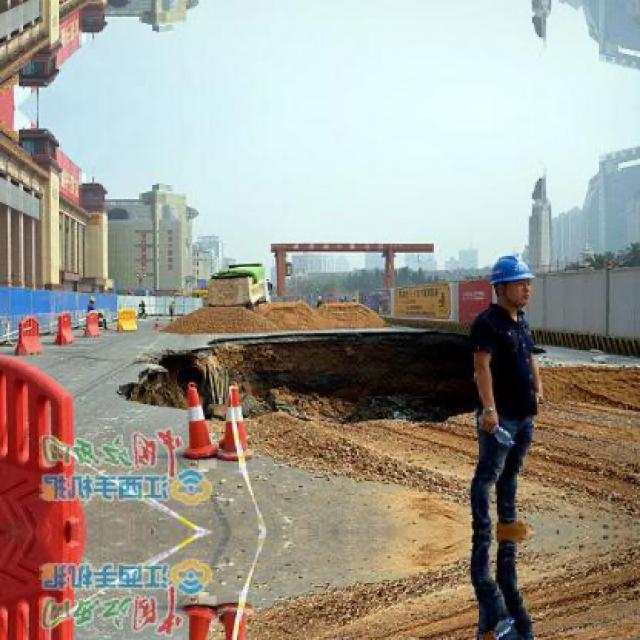helmet: (485, 247, 537, 314)
